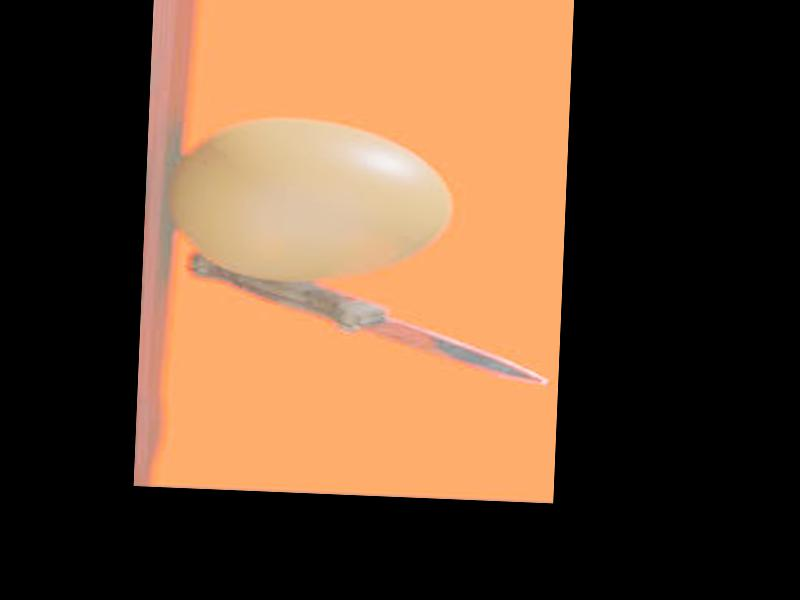Eggs: (172, 116, 450, 286)
